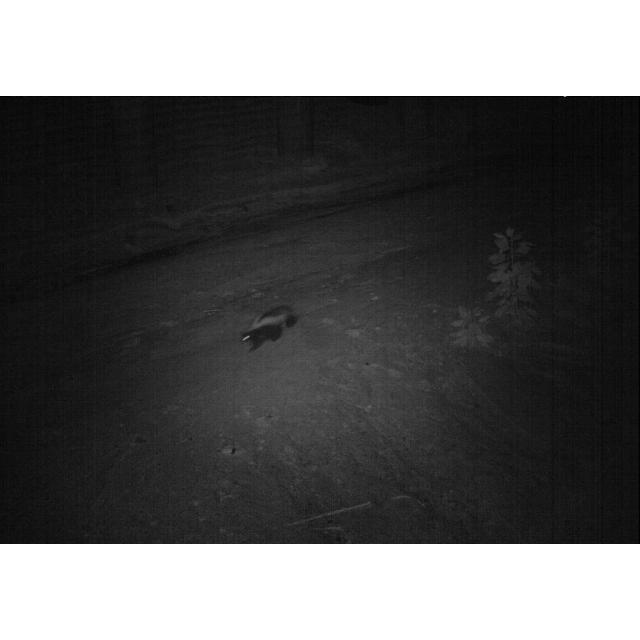animals: (240, 302, 300, 354)
